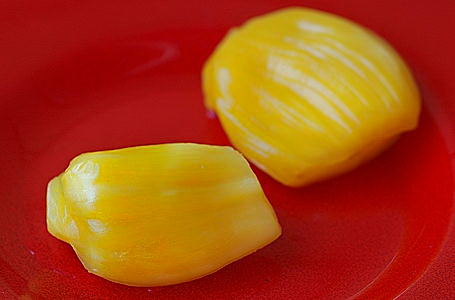jackfruit: (200, 7, 421, 186), (46, 141, 283, 287)
